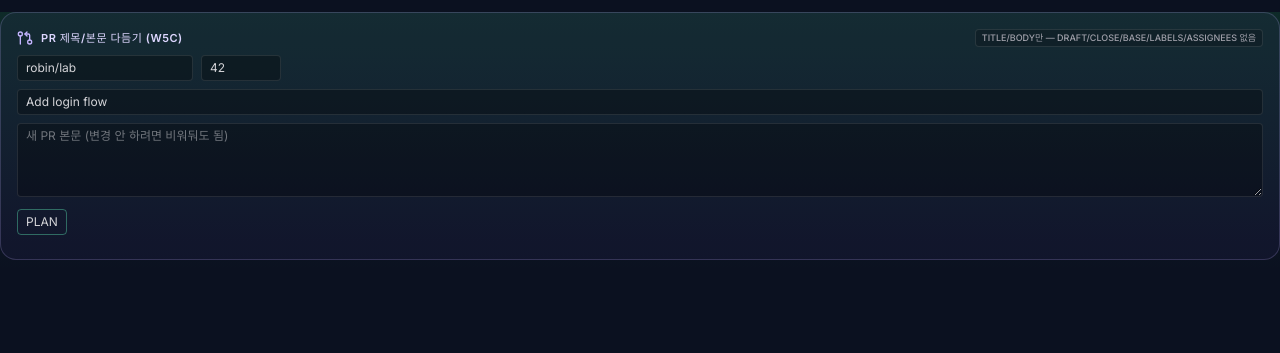
PullRequestUpdateCard — W5c › (#2) Plan + approval + Execute → /pr/update/execute 호출 + observed UI
The width and height of the screenshot is (1280, 353).
Replace the text in the field named "pr-update new title" with "Add login flow (cleaned up)" at (640, 102), box [17,89,1263,115]
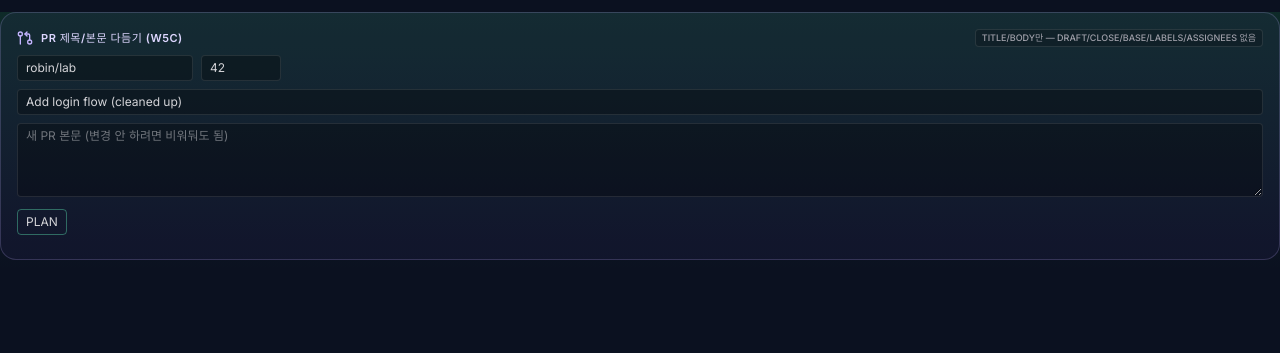
Click the button with test id "publish-pr-update-plan".
click(42, 222)  # box [17,209,67,235]
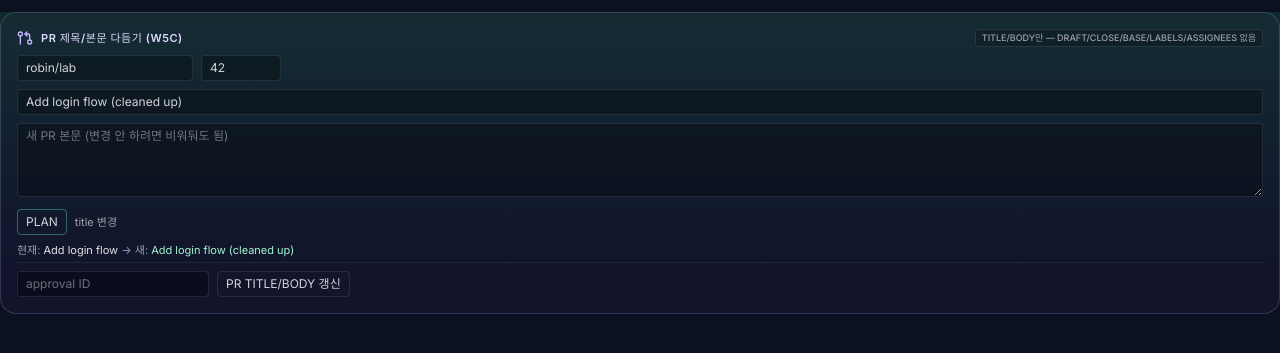
expect the text "title 변경" is shown: met, box [75,215,117,229]
// approval + execute
Type "appr-xyz" into the field named "pr-update approval ID".
click(113, 284); type("appr-xyz")  # box [17,271,209,297]
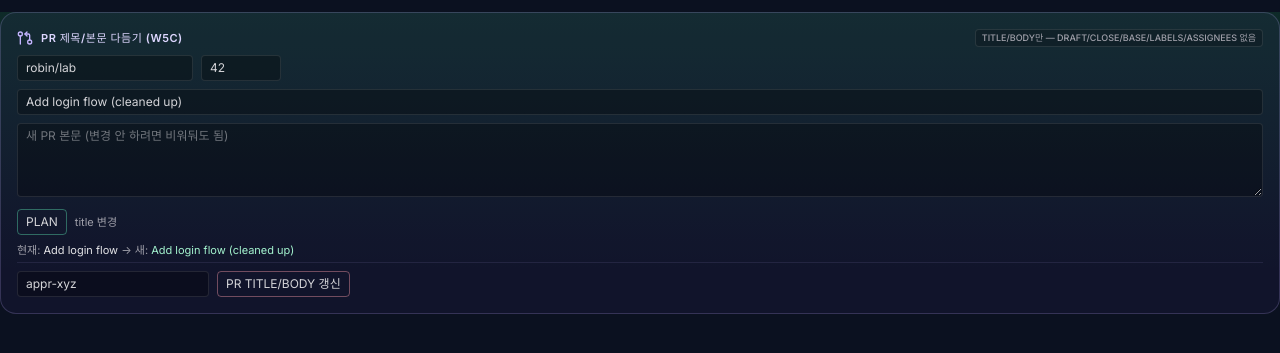
Click the button with test id "publish-pr-update-execute".
click(283, 284)  # box [217,271,350,297]
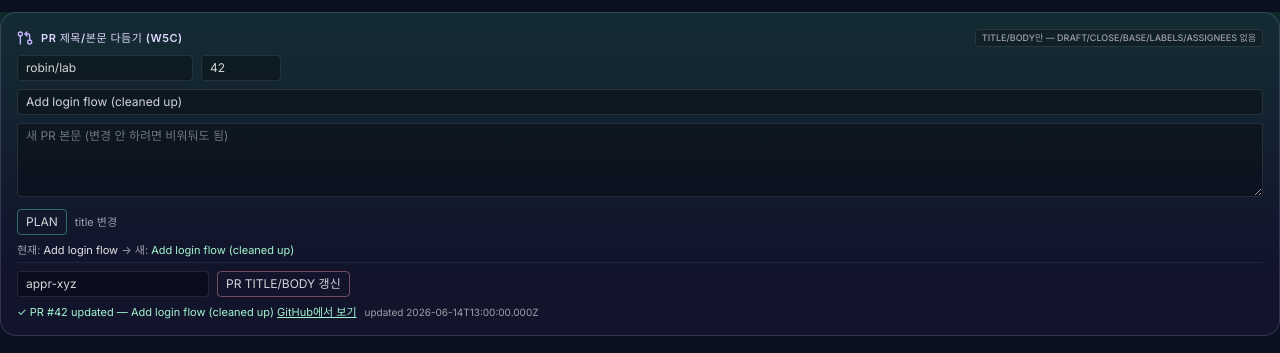
expect the element with test id "publish-pr-update-observed" shows "PR #42": met, box [17,305,538,319]
